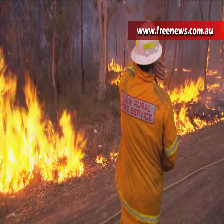fire_h: (1, 47, 84, 193), (158, 76, 220, 104), (171, 104, 224, 136), (205, 39, 217, 75)
fire_l: (108, 57, 123, 73), (96, 154, 108, 167), (163, 67, 177, 76), (110, 152, 119, 162), (111, 75, 121, 84), (182, 67, 190, 71)
